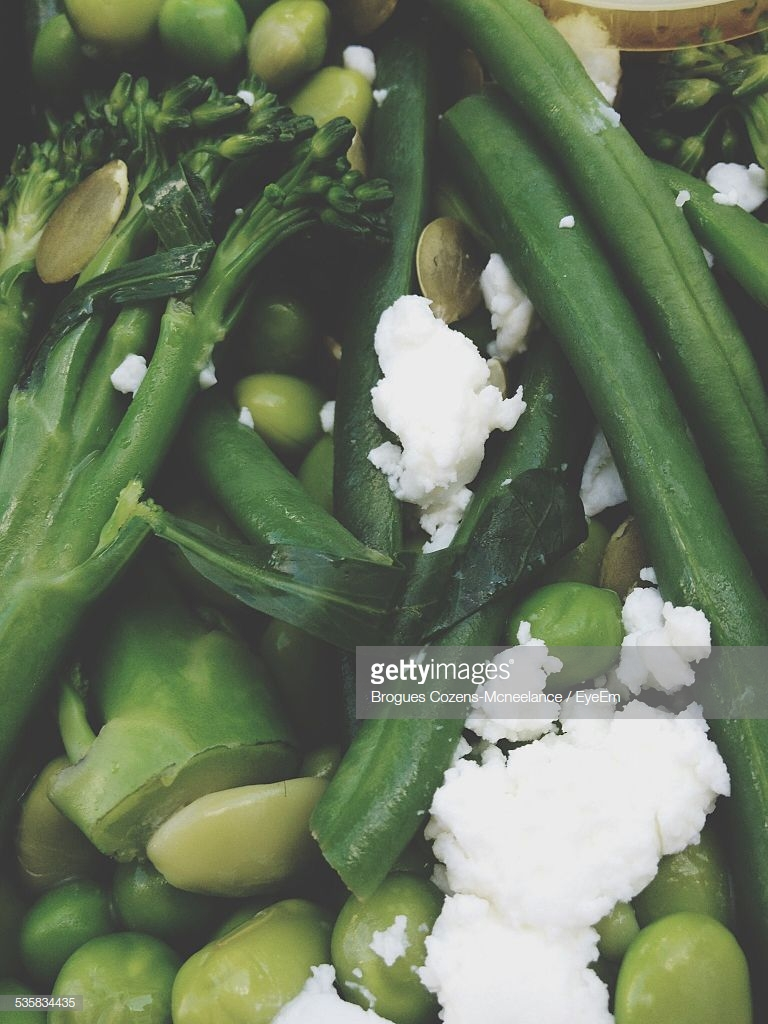boiled peas: (35, 873, 184, 1000), (187, 12, 345, 75), (526, 583, 601, 648)
